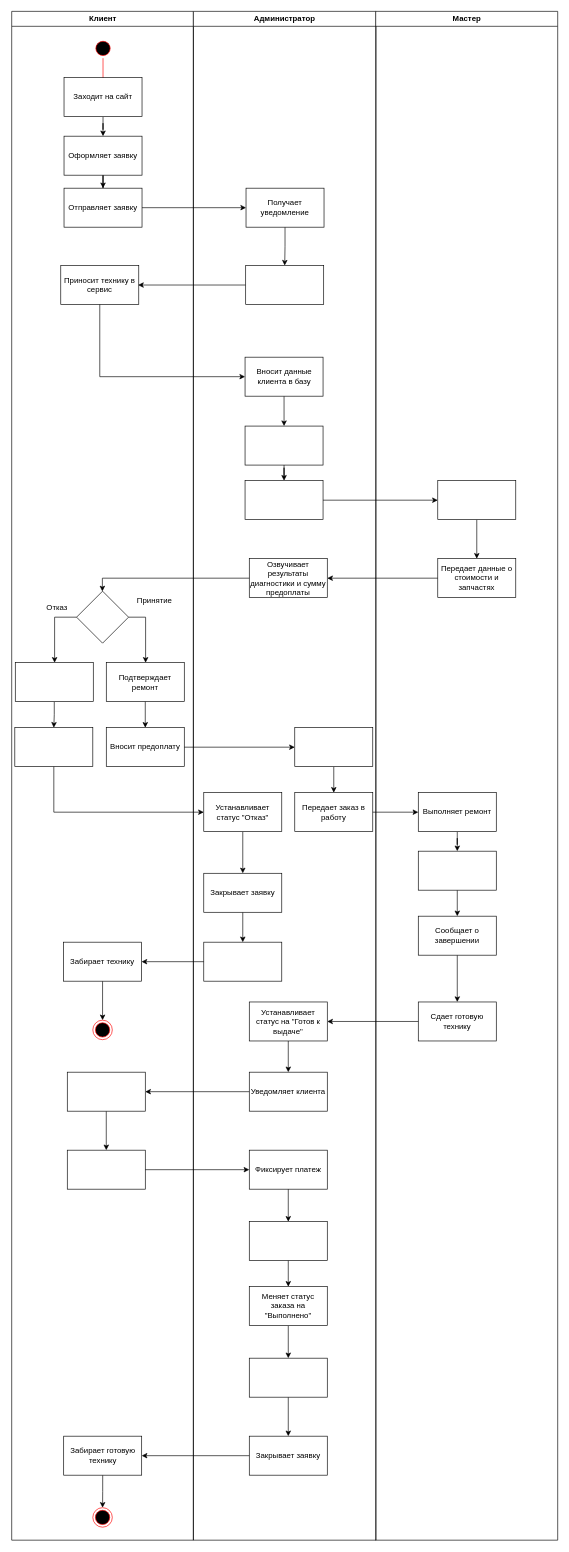
This 569x1552 diagram has some shape labels left out. Each missing label, with the centre of its shape:
Вносит оплату только за диагностику: pixel 53 747
Вносит остаток оплаты: pixel 106 1169
Возвращает технику: pixel 242 961
Выдает гарантийный талон: pixel 288 1377
Отказывается от ремонта: pixel 54 682
Передает устройство на диагностику: pixel 283 500
Проверяет технику: pixel 106 1091
Проводит диагностику: pixel 476 500
Ставит дату выдачи: pixel 288 1241
Тестирование техники: pixel 457 870
Уведомляет клиента для подтверждения и оформление даты брони: pixel 284 285
Устанавливает статус "В работе": pixel 333 747
Устанавливает статус "Принято": pixel 283 445
